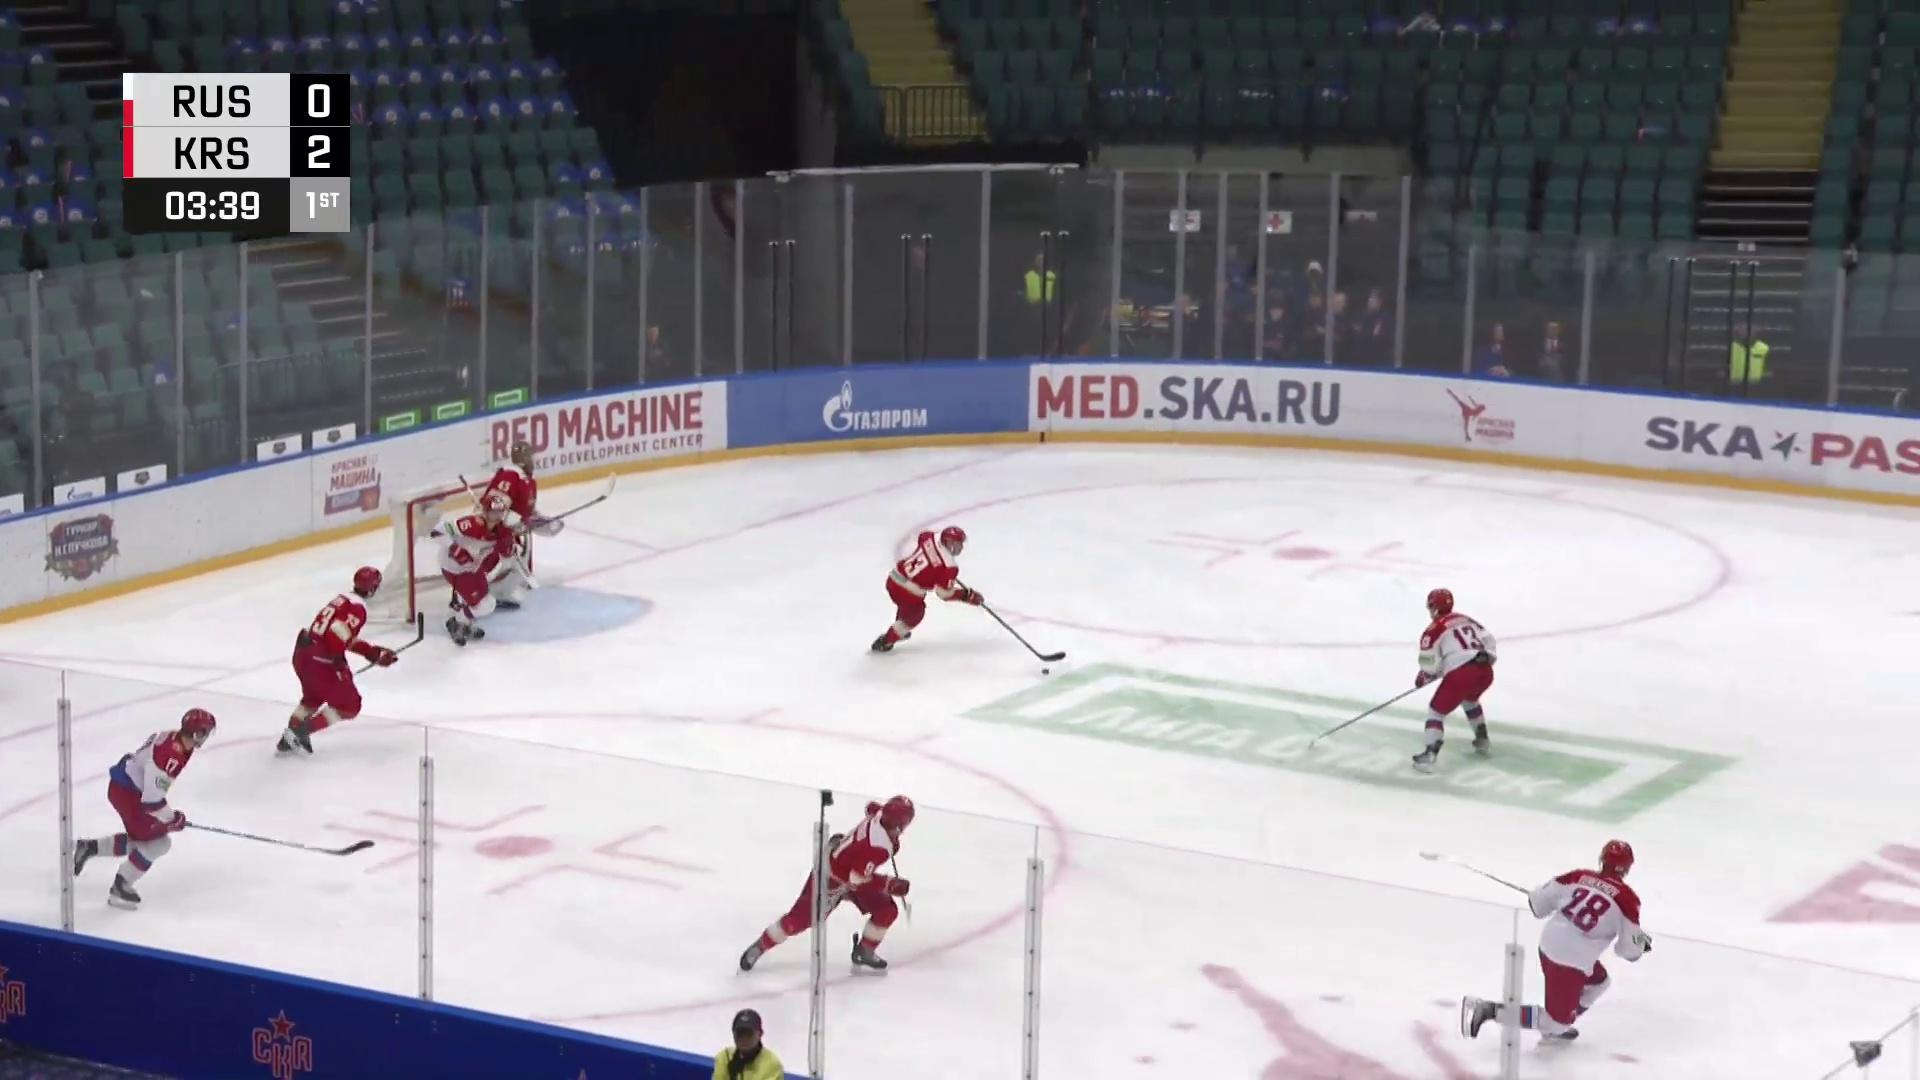ball: (1036, 665, 1054, 675)
